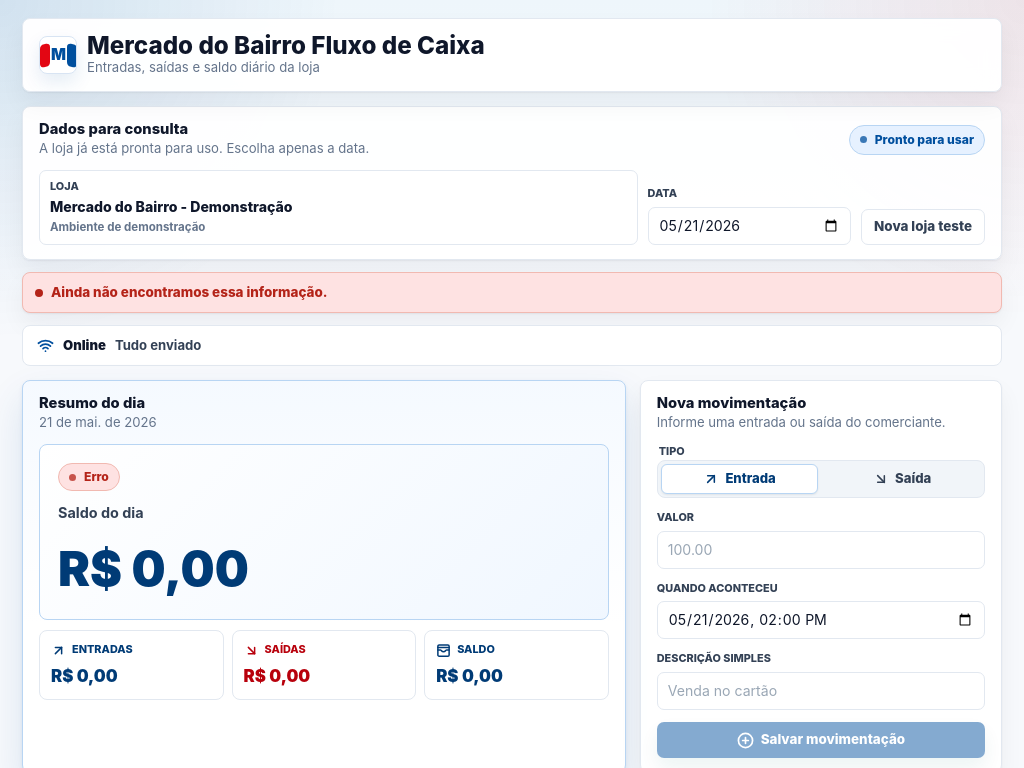
Test case: Cash Flow operational portal › stores a transaction locally when the API is unavailable
Step 1. Type "2026-05-20" into the date field labelled "Data" → coordinates (749, 226), box [648, 207, 851, 245]
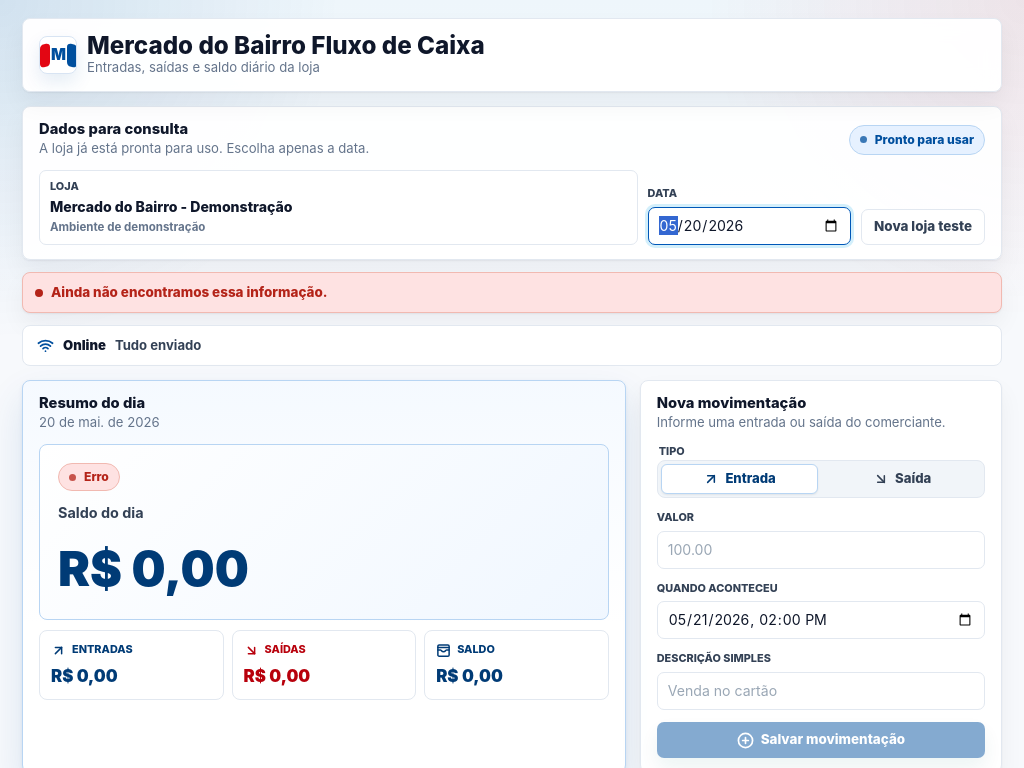
Step 2. Type "42.00" into the number field labelled "Valor" → coordinates (821, 550), box [657, 531, 985, 569]
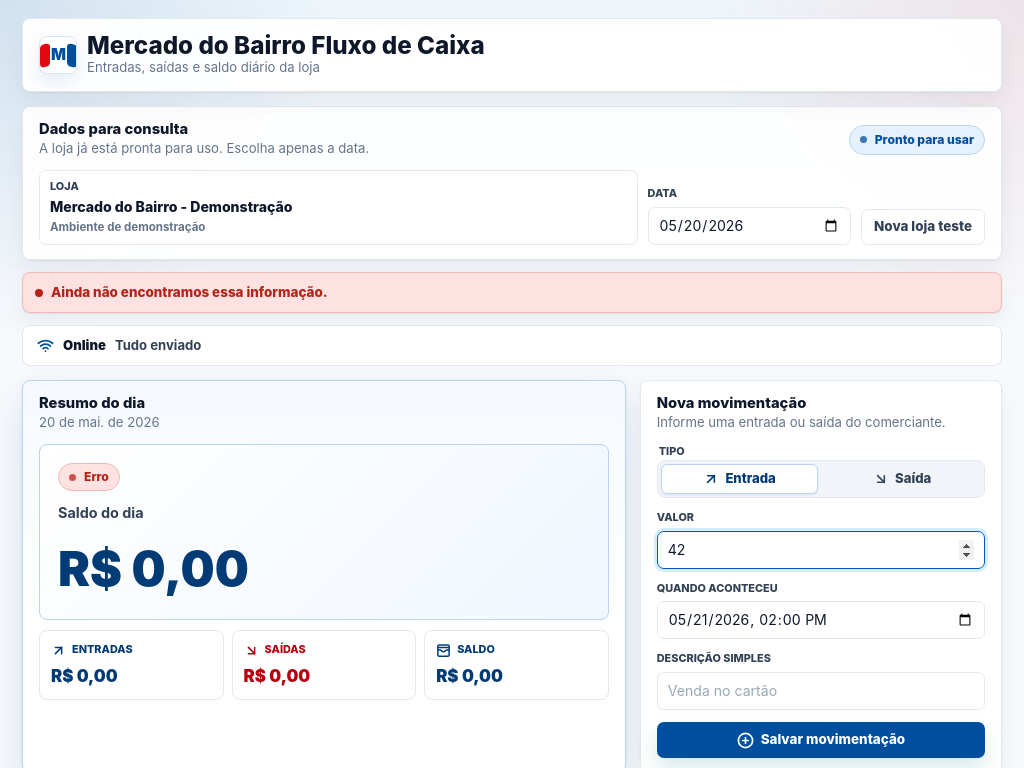
Step 3. Type "Venda offline" into the field labelled "Descrição simples" → coordinates (821, 691), box [657, 672, 985, 710]
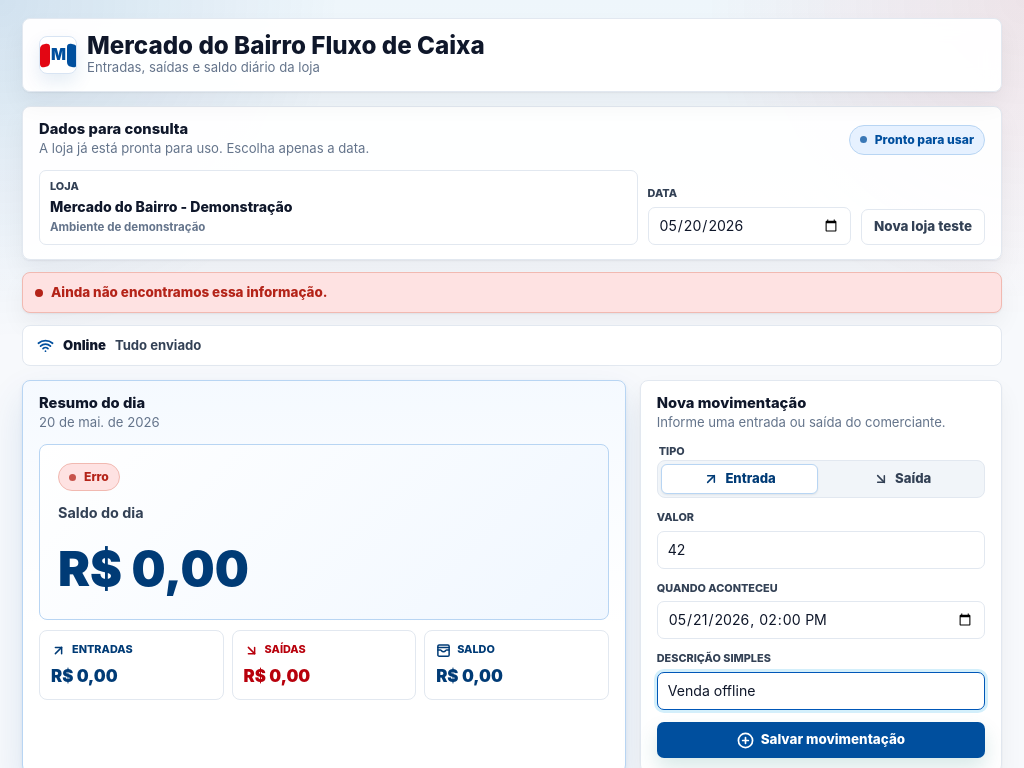
Step 4. Replace the text in the field labelled "Quando aconteceu" with "2026-05-20T10:00" → coordinates (821, 620), box [657, 602, 985, 640]
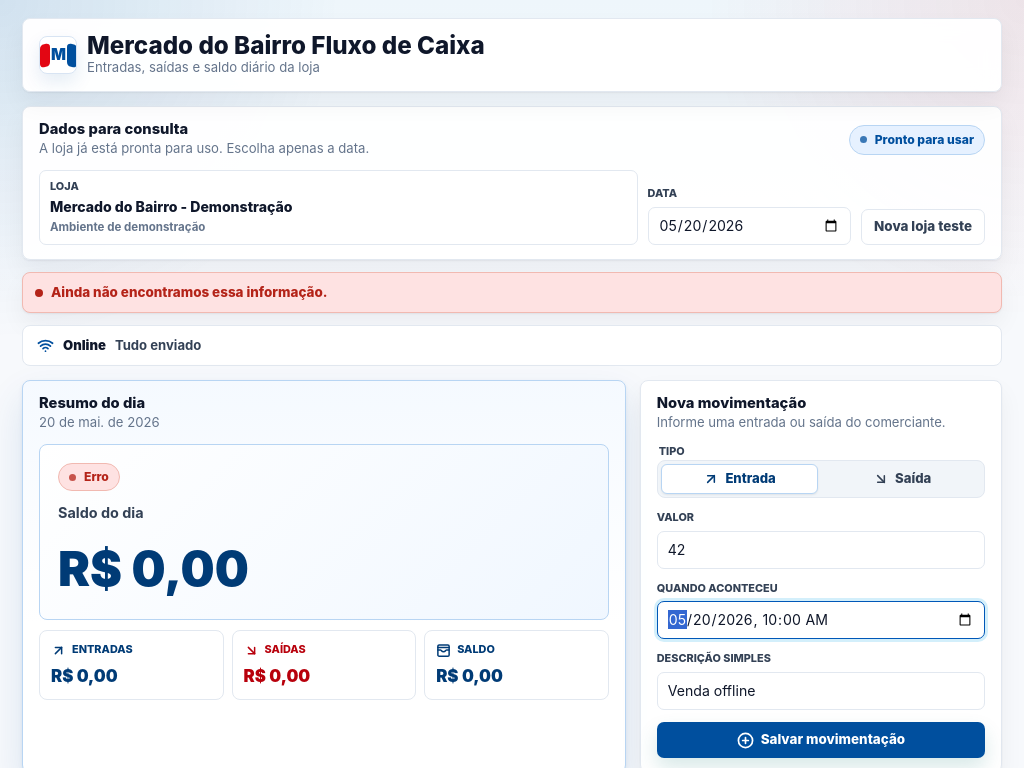
Step 5. Click the button "Salvar movimentação" → coordinates (821, 740), box [657, 722, 985, 758]
(page scrolled)
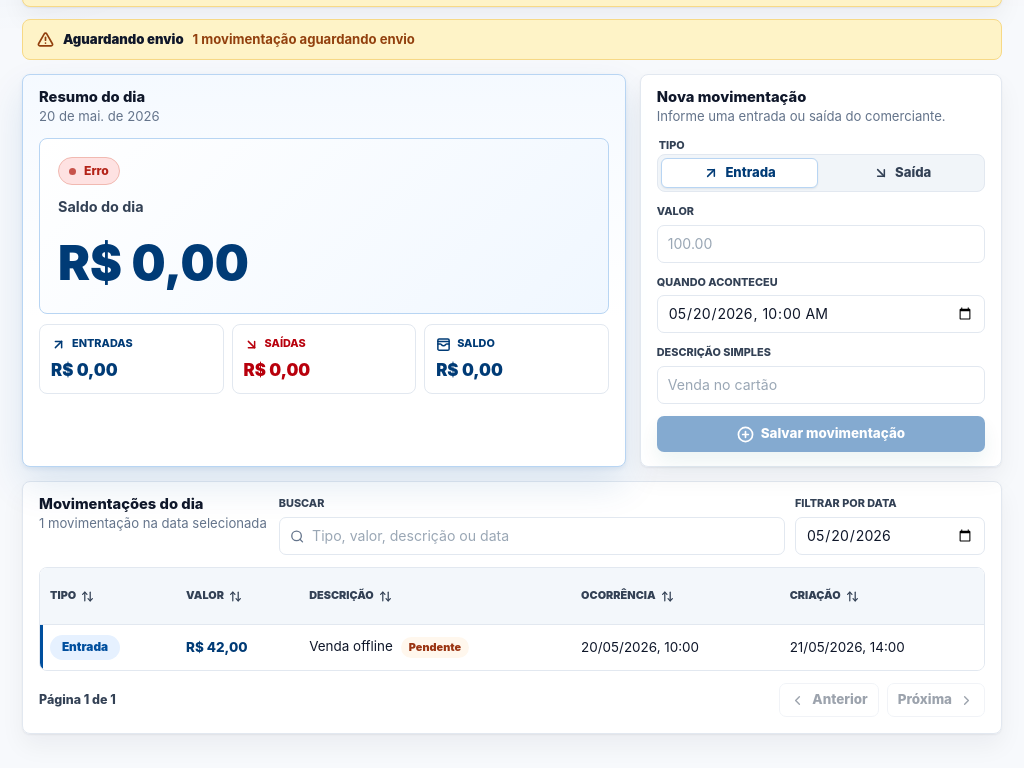
Now the text "1 movimentação aguardando envio" is shown, box [193, 30, 415, 50]
Now the text "Venda offline" is shown, box [309, 638, 393, 654]
Now the text "Pendente" is shown, box [401, 637, 469, 658]
